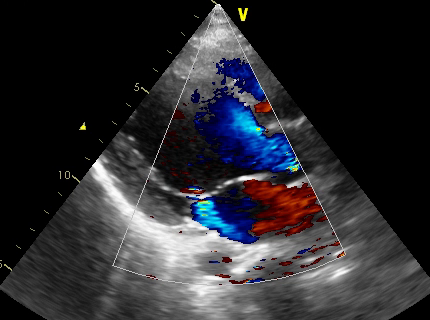MR: (190, 177, 242, 240)
